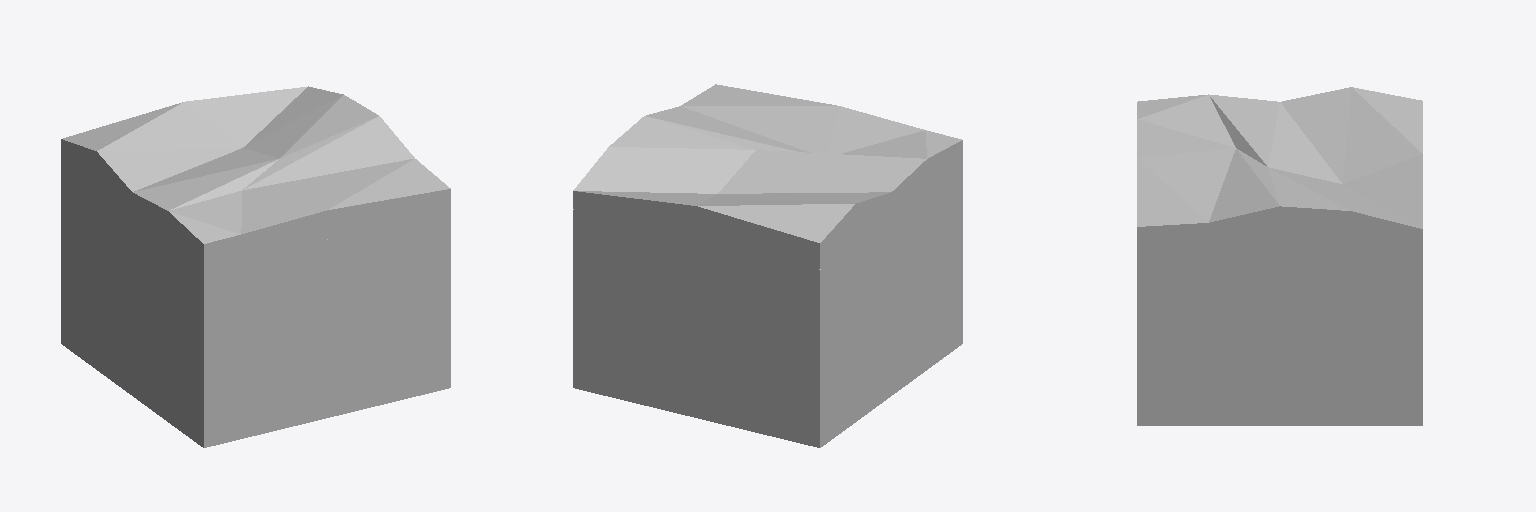
File: grassW3.obj
3 renders of one model, left to right at view 1: azimuth 30°, elevation 25°; view 2: azimuth 150°, elevation 25°; view 3: azimuth 270°, elevation 25°, orthographic.
Visible parts, largest first — view 1: Cube; view 2: Cube; view 3: Cube.
Boxes of the visible parts, <box> form: Cube: <box>61,86,450,447</box>; Cube: <box>573,84,962,447</box>; Cube: <box>1137,87,1422,425</box>.
Bounding box in the file's own units: 159 × 136 × 159.